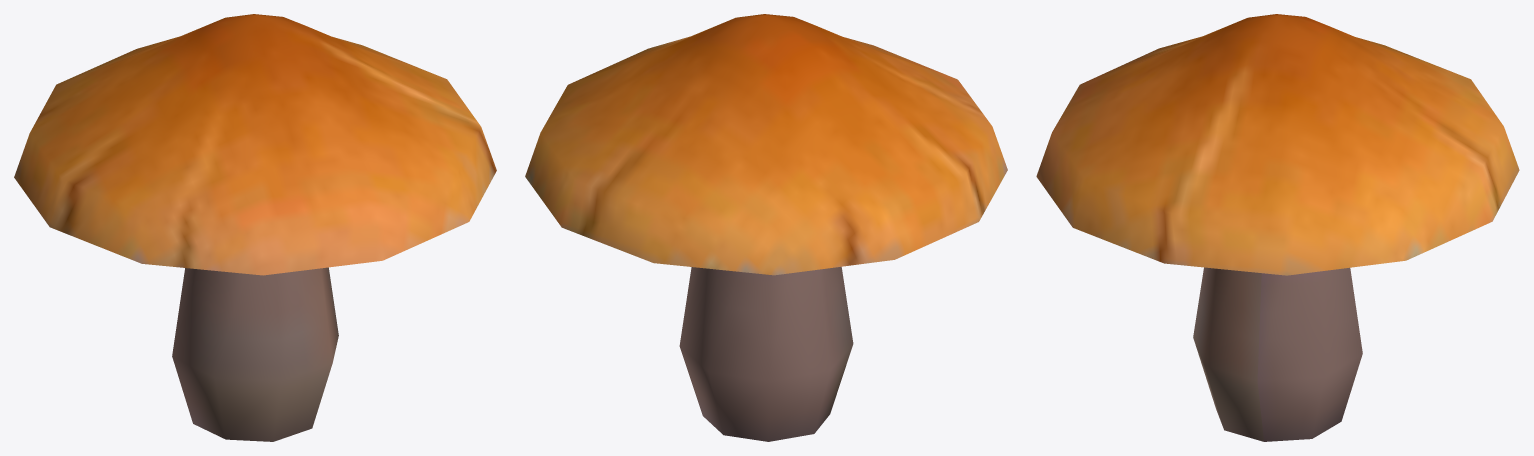
Rendered from map_112_guanmu_6.fbx.
3 views of the same model, side by side, from view 1: azimuth 30°, elevation 25°; view 2: azimuth 150°, elevation 25°; view 3: azimuth 270°, elevation 25° (orthographic).
Visible parts, largest first — view 1: map_112_guanmu_6; view 2: map_112_guanmu_6; view 3: map_112_guanmu_6.
Boxes of the visible parts, x1,y1,x2,y2 form: map_112_guanmu_6: (14,14,496,441); map_112_guanmu_6: (525,14,1007,441); map_112_guanmu_6: (1036,14,1519,441).
Bounding box in the file's own units: 0.2493 × 0.2279 × 0.2493.
